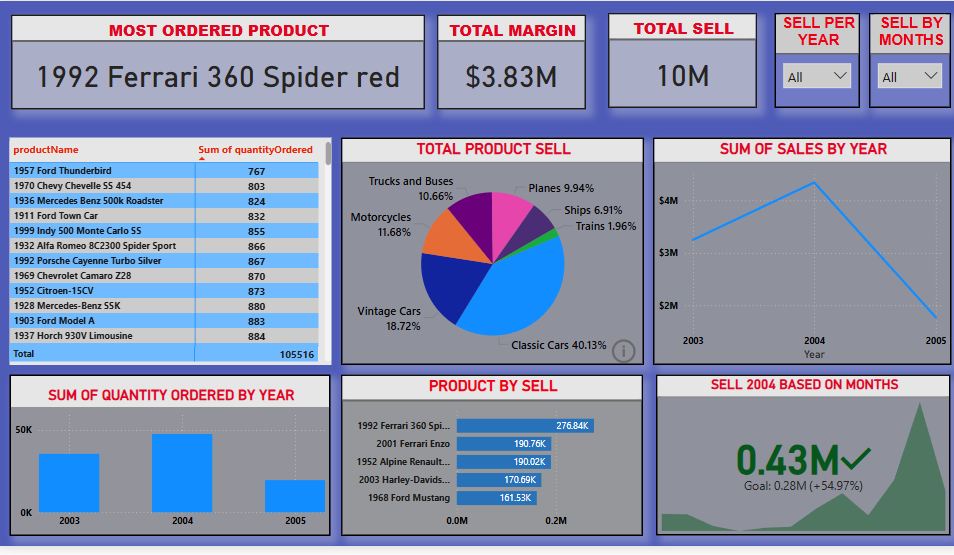

What the dashboard file says about the page in this screenshot:
{"tool":"powerbi","page":{"name":"Page 1","canvas":[1288,726],"ordinal":0},"visuals":[{"type":"card","title":"TOTAL SELL","fields":{"Values":["order details.total_sales"]},"box":[816.4,16,198.9,126.7],"z":0},{"type":"barChart","title":"PRODUCT BY SELL","fields":{"Category":["product.productName"],"Y":["Sum(order details.sales)"]},"box":[460.8,498.5,402.6,215.5],"z":1000},{"type":"pieChart","title":"TOTAL PRODUCT SELL ","fields":{"Category":["product.productLine"],"Y":["Sum(order details.sales)"]},"box":[460.8,182.4,404.2,303.5],"z":2000},{"type":"slicer","title":"SELL PER YEAR","fields":{"Values":["order.orderyear"]},"box":[1037.7,16,113.9,126.7],"z":3000},{"type":"slicer","title":"SELL  BY MONTHS","fields":{"Values":["order.Month Name"]},"box":[1164.4,16,109.1,126.7],"z":4000},{"type":"kpi","title":"SELL 2004 BASED ON MONTHS","fields":{"Indicator":["order.sell_2004"],"Goal":["order.sell_2003"],"TrendLine":["order.Month Name"]},"box":[880.5,498.8,392.9,214.9],"z":5000},{"type":"clusteredColumnChart","title":"SUM OF QUANTITY ORDERED BY YEAR","fields":{"Category":["order.orderyear"],"Y":["Sum(order details.quantityOrdered)"]},"box":[18.9,498.5,427.8,215.5],"z":6000},{"type":"card","title":"TOTAL MARGIN","fields":{"Values":["Sum(order details.total_margin)"]},"box":[588.6,17.6,198.9,126.7],"z":7000},{"type":"card","title":"MOST ORDERED PRODUCT","fields":{"Values":["order details.MostOrderedProduct"]},"box":[19.2,17.6,551.7,126.7],"z":8000},{"type":"lineChart","title":"SUM  OF SALES BY YEAR","fields":{"Category":["order.orderDate.Variation.Date Hierarchy.Year","order.orderDate.Variation.Date Hierarchy.Quarter","order.orderDate.Variation.Date Hierarchy.Month","order.orderDate.Variation.Date Hierarchy.Day"],"Y":["Sum(order details.sales)"]},"box":[875.7,182.8,397.8,303.1],"z":9000},{"type":"actionButton","box":[816.9,445.3,100.7,42],"z":10000},{"type":"pivotTable","fields":{"Rows":["product.productName"],"Values":["Sum(order details.quantityOrdered)"]},"box":[17.3,182.4,429.3,303.5],"z":11000}]}

Visuals, with their boxes on the page's 1288x726 design canvas (x1, y1, x2, y2). These are canvas units, not pixel positions in the 954x555 screenshot, which may show the page scaled, cropped or inside an application window:
"TOTAL SELL" card: (816, 16, 1015, 143)
"PRODUCT BY SELL" barChart: (461, 498, 863, 714)
"TOTAL PRODUCT SELL " pieChart: (461, 182, 865, 486)
"SELL PER YEAR" slicer: (1038, 16, 1152, 143)
"SELL  BY MONTHS" slicer: (1164, 16, 1274, 143)
"SELL 2004 BASED ON MONTHS" kpi: (880, 499, 1273, 714)
"SUM OF QUANTITY ORDERED BY YEAR" clusteredColumnChart: (19, 498, 447, 714)
"TOTAL MARGIN" card: (589, 18, 788, 144)
"MOST ORDERED PRODUCT" card: (19, 18, 571, 144)
"SUM  OF SALES BY YEAR" lineChart: (876, 183, 1274, 486)
actionButton: (817, 445, 918, 487)
pivotTable - product.productName x Sum(order details.quantityOrdered): (17, 182, 447, 486)
